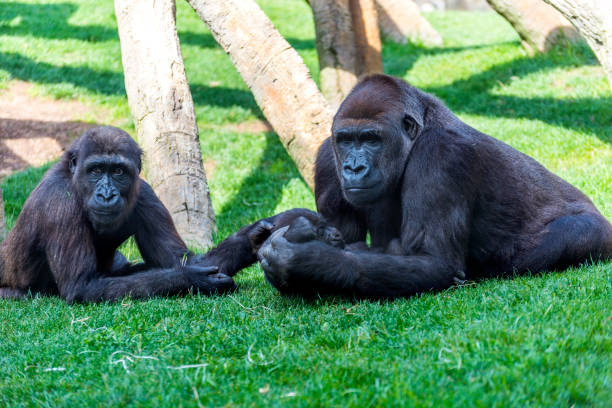chimpanzee: (323, 63, 427, 221), (55, 117, 138, 249)
